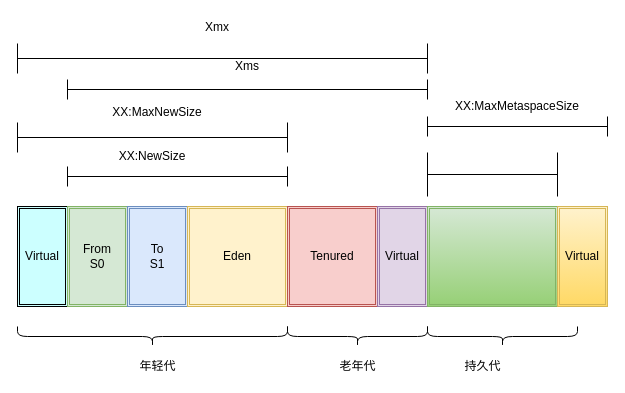
Image size: 625x393. Some labels were removed from this diagram. The shapes that lost their labels are listed below. From the top down, each one's centre as x and y in pixels, then its label:
At [492,174]: "XX:MetaspaceSize".
At [492,256]: "Meta".
